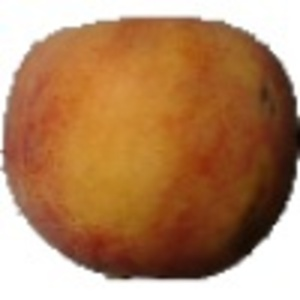pêssego: (1, 1, 300, 284)
